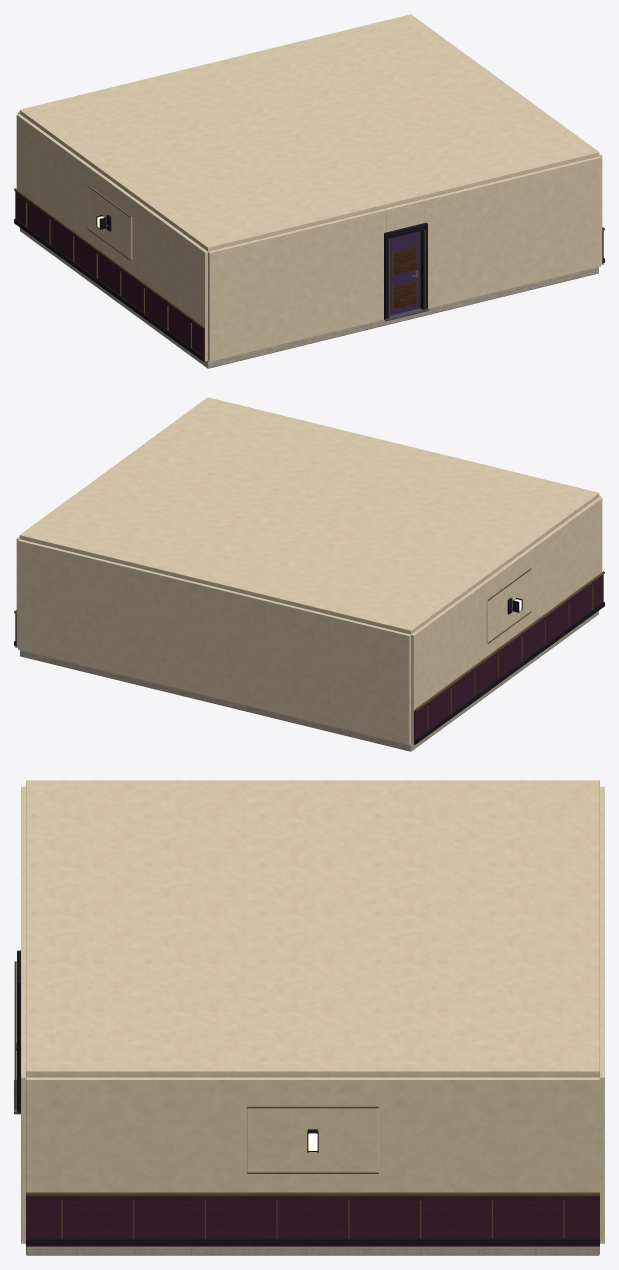
Rendered from explore3d__archive_room.glb.
3 renders of one model, top to bottom at view 1: azimuth 30°, elevation 25°; view 2: azimuth 150°, elevation 25°; view 3: azimuth 270°, elevation 25°, orthographic. The views are drawn at different scales.
Parts seen in each view (by area): view 1: ceiling_surface.005, front_wall.017, front_wall.015, left_wall.021, left_wainscot.013, floor.005, left_upper_inset.013, archive_room_leaf, left_skirt.013, front_wall.016, left_rail.013, archive_room_jamb.001 (+2 smaller); view 2: ceiling_surface.005, back_wall.012, left_wall.021, left_wainscot.013, floor.005, left_upper_inset.013, left_skirt.013, left_rail.013; view 3: ceiling_surface.005, right_wall.021, right_wainscot.013, right_upper_inset.013, floor.005, right_skirt.013, right_rail.013, back_wall.012, front_wall.015, front_wall.017.
Part boxes in pixels (<box>): ceiling_surface.005: <box>19,14,599,251</box>; front_wall.017: <box>208,209,385,361</box>; front_wall.015: <box>423,156,600,308</box>; left_wall.021: <box>16,114,207,361</box>; left_wainscot.013: <box>15,191,204,361</box>; floor.005: <box>20,228,598,368</box>; left_upper_inset.013: <box>88,186,132,259</box>; archive_room_leaf: <box>390,231,420,315</box>; left_skirt.013: <box>14,219,203,360</box>; front_wall.016: <box>384,199,424,232</box>; left_rail.013: <box>14,188,203,328</box>; archive_room_jamb.001: <box>420,227,427,309</box>; ceiling_surface.005: <box>19,397,599,634</box>; back_wall.012: <box>18,539,410,744</box>; left_wall.021: <box>411,497,602,744</box>; left_wainscot.013: <box>414,574,603,744</box>; floor.005: <box>20,611,598,751</box>; left_upper_inset.013: <box>486,569,530,642</box>; left_skirt.013: <box>415,602,604,743</box>; left_rail.013: <box>415,571,604,711</box>; ceiling_surface.005: <box>26,780,599,1077</box>; right_wall.021: <box>26,1077,599,1192</box>; right_wainscot.013: <box>26,1196,599,1246</box>; right_upper_inset.013: <box>247,1108,378,1172</box>; floor.005: <box>26,1246,599,1255</box>; right_skirt.013: <box>26,1238,599,1245</box>; right_rail.013: <box>26,1192,599,1195</box>; back_wall.012: <box>599,786,604,1243</box>; front_wall.015: <box>21,946,25,1243</box>; front_wall.017: <box>21,786,25,917</box>.
Bounding box in the file's own units: 12.96 × 3.56 × 10.3.
13 materials, 12 textured.
